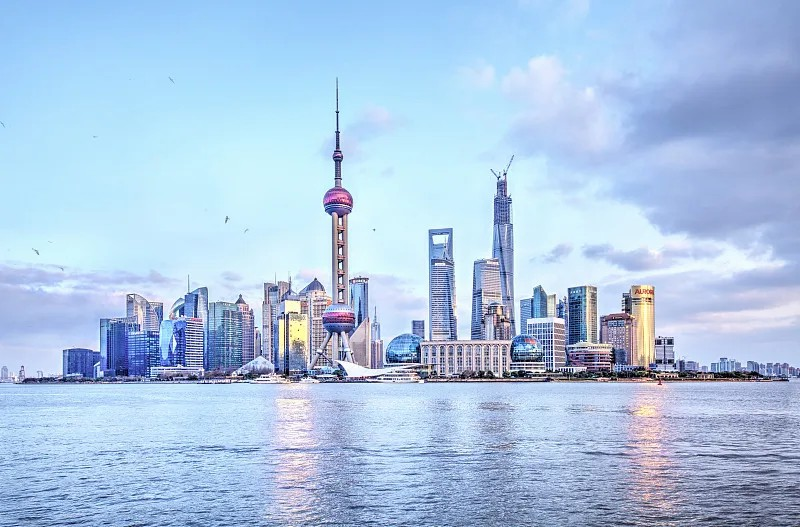Oriental: (310, 77, 355, 368)
